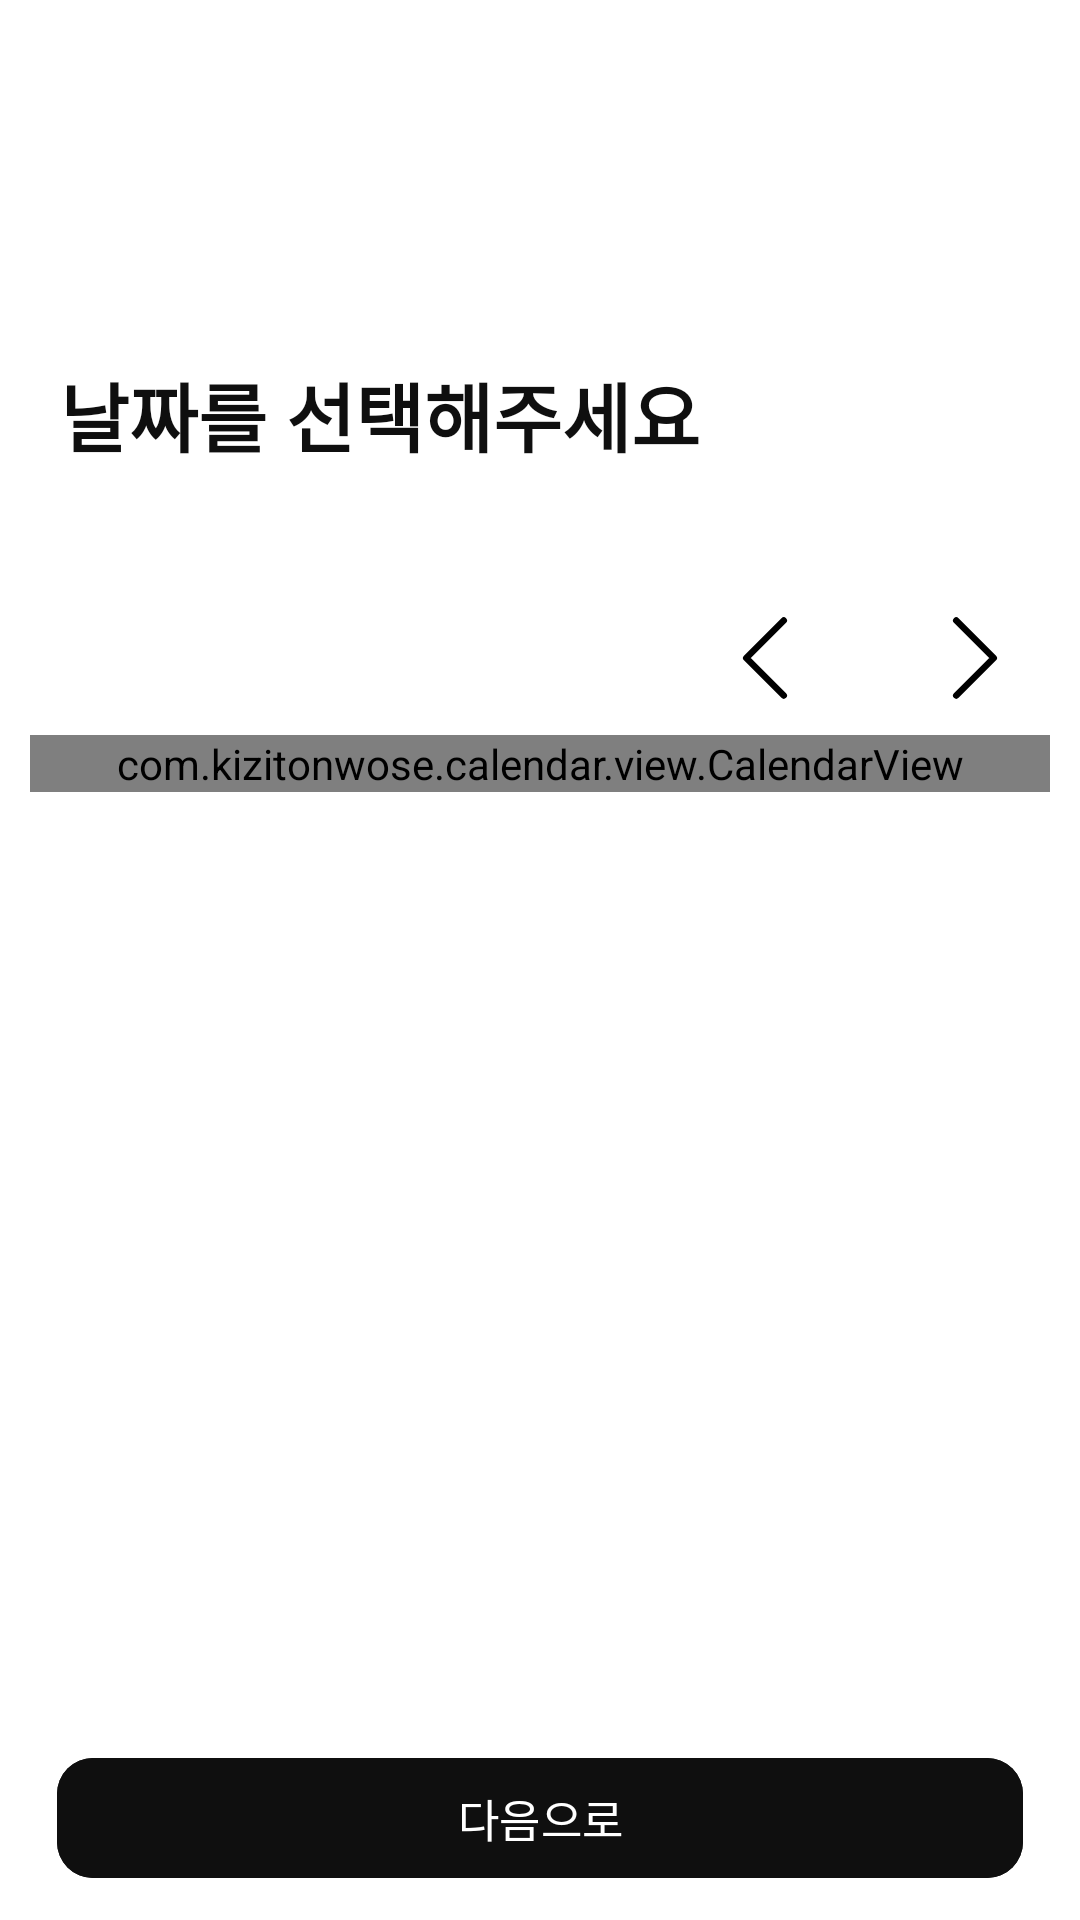

Icon bounding boxes for this 1080*1920 phone screenshot, format (x1, y1, x2, y2):
calendar next sv: (952, 617, 997, 699)
calendar previous sv: (743, 617, 788, 699)
